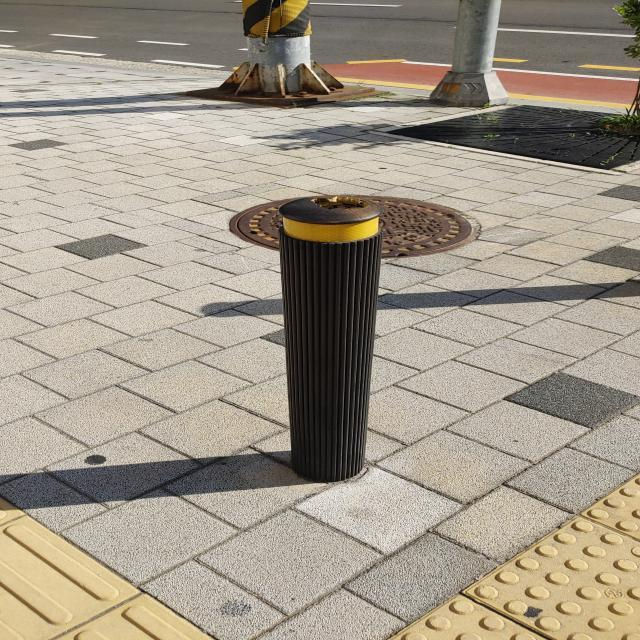pole: (277, 195, 383, 483)
